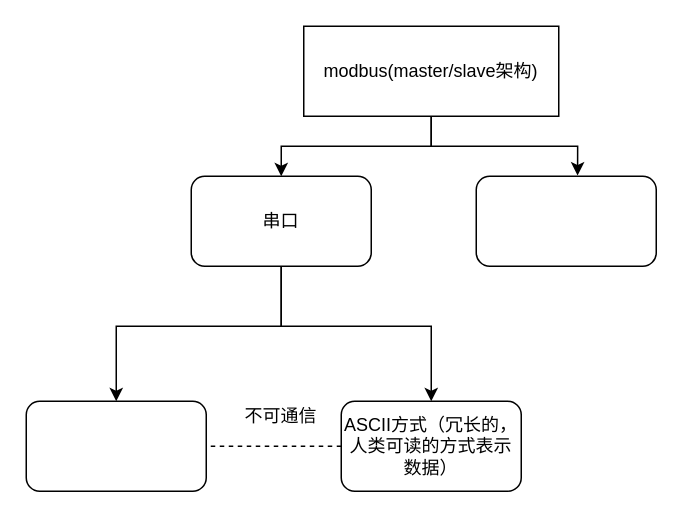
Image size: 683x518. Some labels were removed from this diagram. Each missing label, with the centre of its shape:
"RTU方式（紧凑的，二进制表示数据）" goes at [115,445].
"以太网" goes at [565,220].
